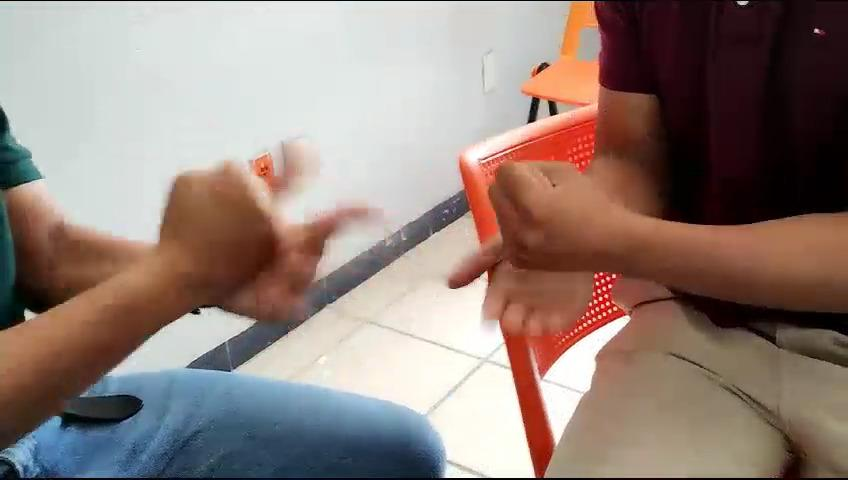Stone: (139, 157, 352, 313), (457, 118, 635, 297)
